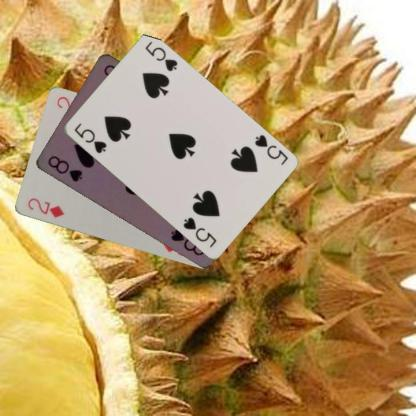2d: (25, 195, 65, 220)
5s: (71, 120, 108, 155), (252, 132, 289, 166)
8s: (44, 153, 84, 184)
